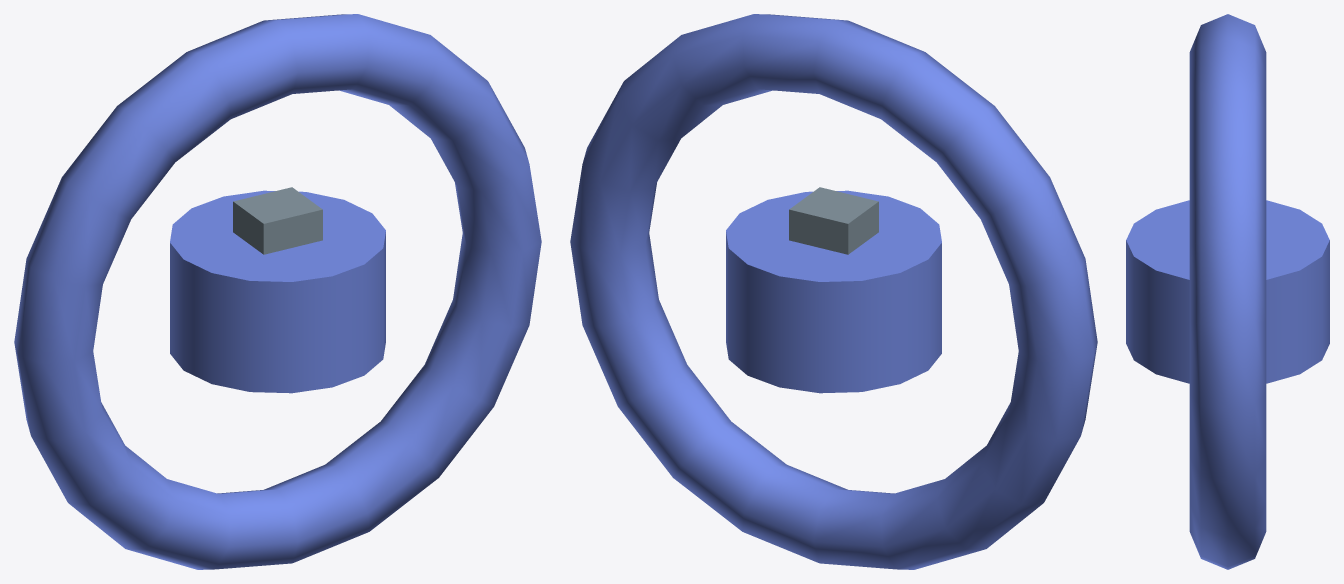
3 views of the same model, side by side, from view 1: azimuth 30°, elevation 25°; view 2: azimuth 150°, elevation 25°; view 3: azimuth 270°, elevation 25° (orthographic). The views are drawn at different scales.
Visible parts, largest first — view 1: visualHandle, object 9, Body; view 2: visualHandle, object 9, Body; view 3: visualHandle, object 9.
Boxes of the visible parts, x1,y1,x2,y2 form: visualHandle: [14, 14, 541, 569]; object 9: [170, 190, 385, 393]; Body: [233, 187, 322, 254]; visualHandle: [570, 14, 1097, 569]; object 9: [726, 190, 941, 393]; Body: [789, 187, 878, 254]; visualHandle: [1189, 14, 1266, 569]; object 9: [1126, 200, 1329, 383].
Size of the model in its own units: 0.88 by 0.88 by 0.32.
